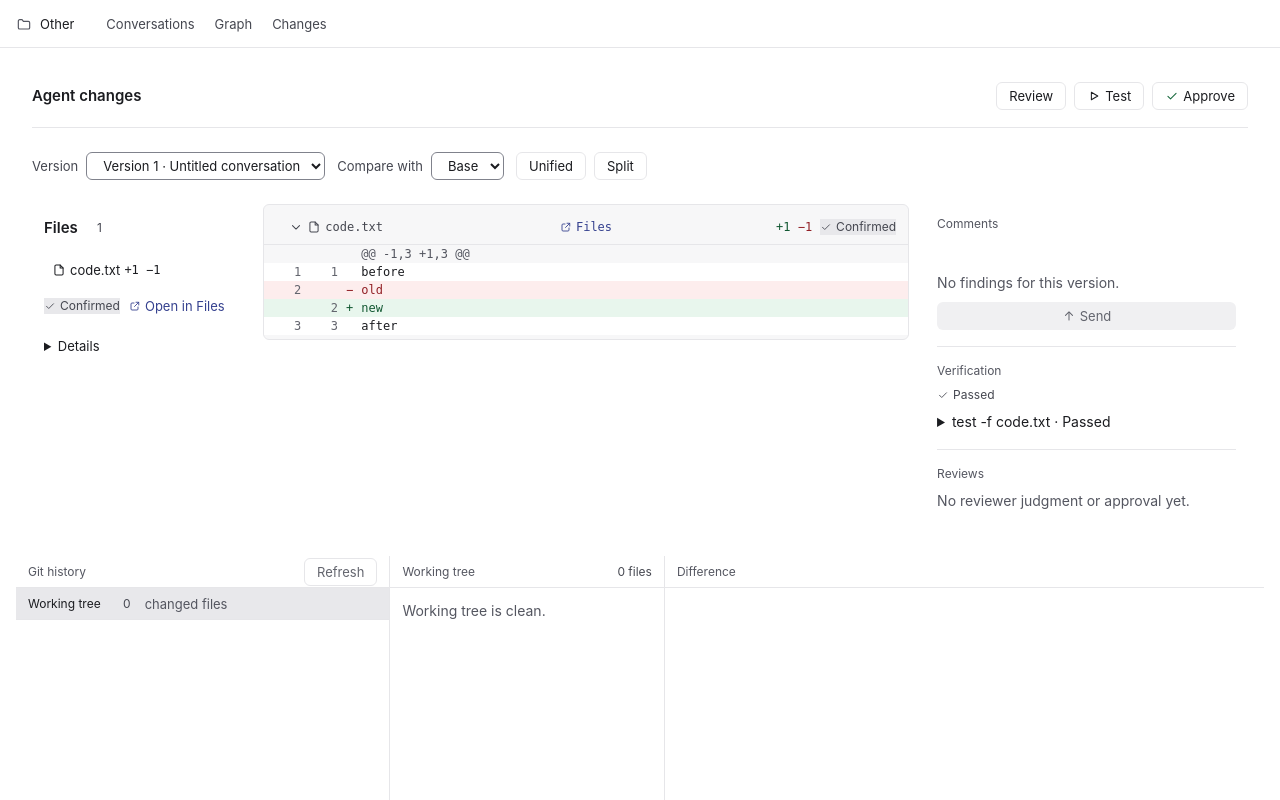
Scenario: switches unified and side by side layouts and keeps line comments on their side
The width and height of the screenshot is (1280, 800).
Click the button "Split": (620, 166) [594, 152, 647, 180]
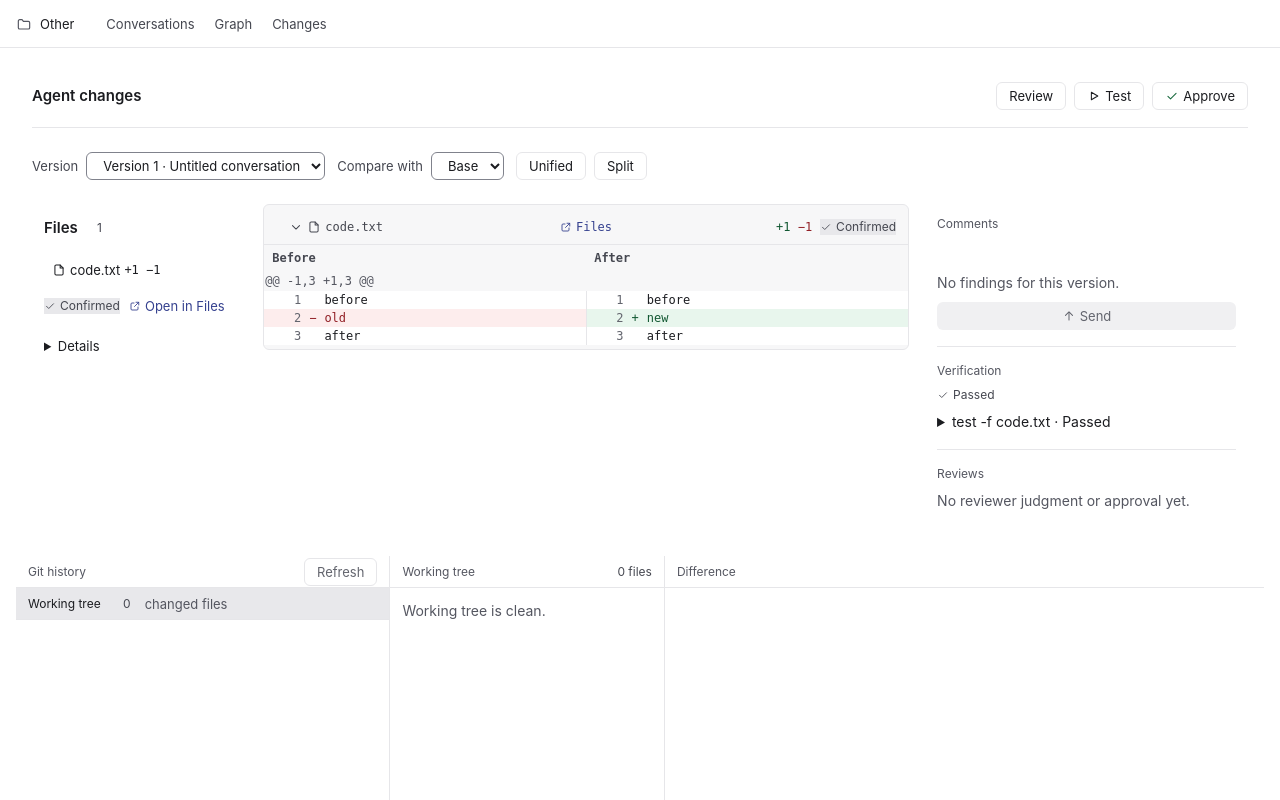
expect the column heading "Before" is shown: met, box [264, 245, 586, 271]
expect the column heading "After" is shown: met, box [586, 245, 908, 271]
Click the button with aria-label "Comment on code.txt old line 2": (451, 318) [324, 309, 578, 327]
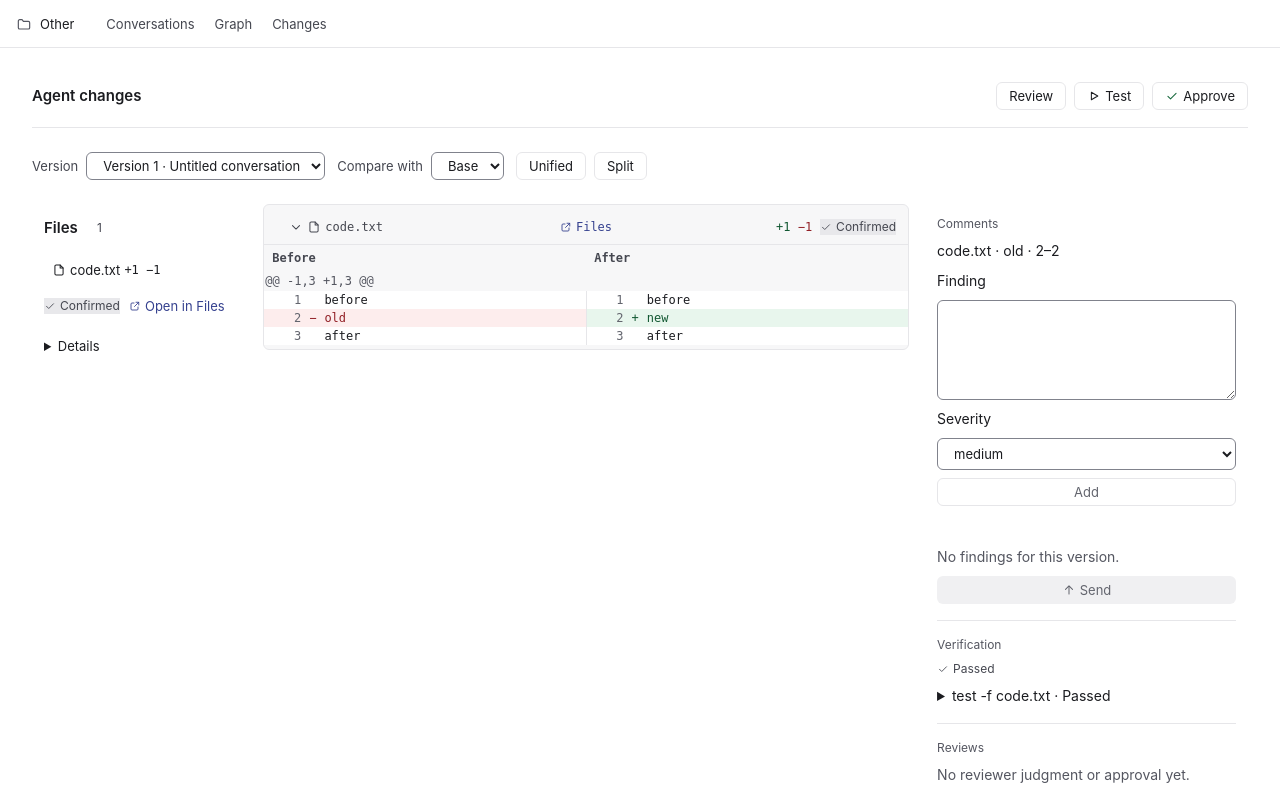
expect the text "code.txt · old · 2–2" is shown: met, box [937, 242, 1060, 259]
Click the button "Unified": (551, 166) [516, 152, 586, 180]
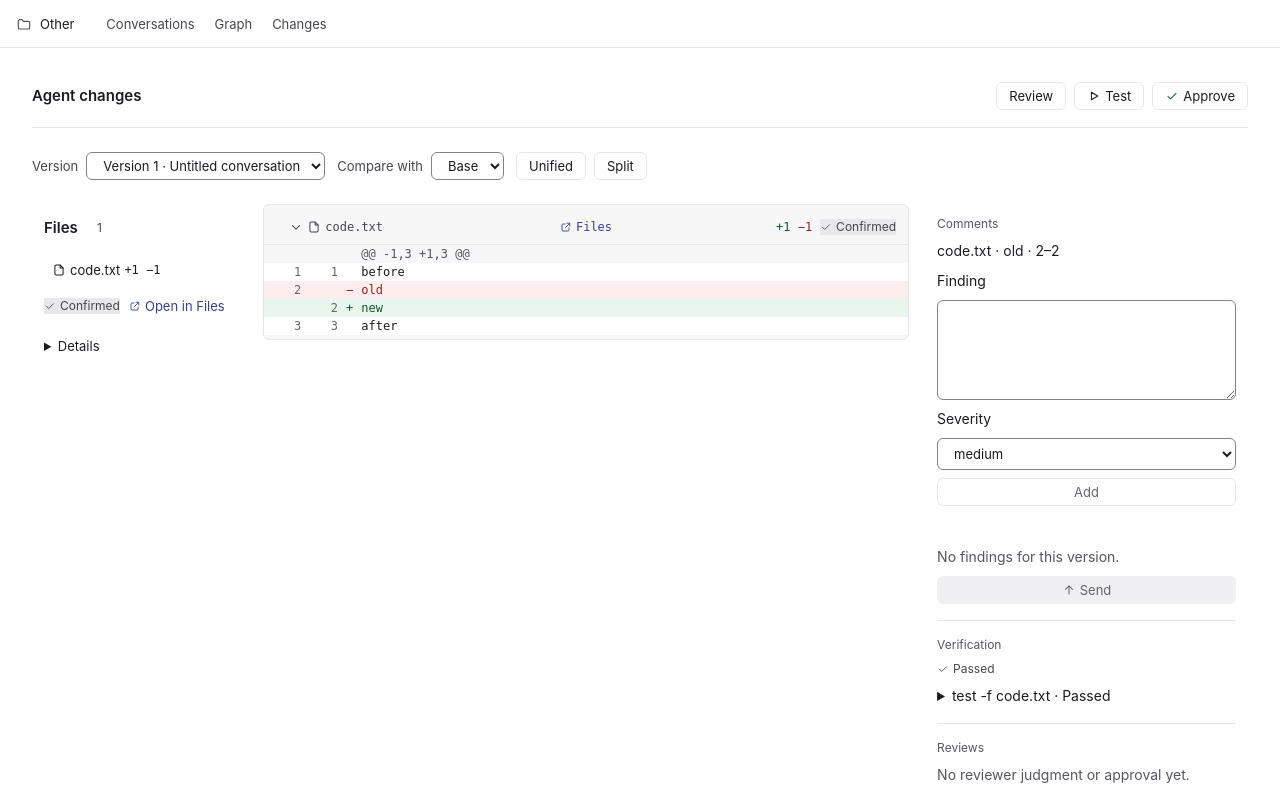
expect the table named "code.txt unified diff" is shown: met, box [264, 245, 908, 335]
